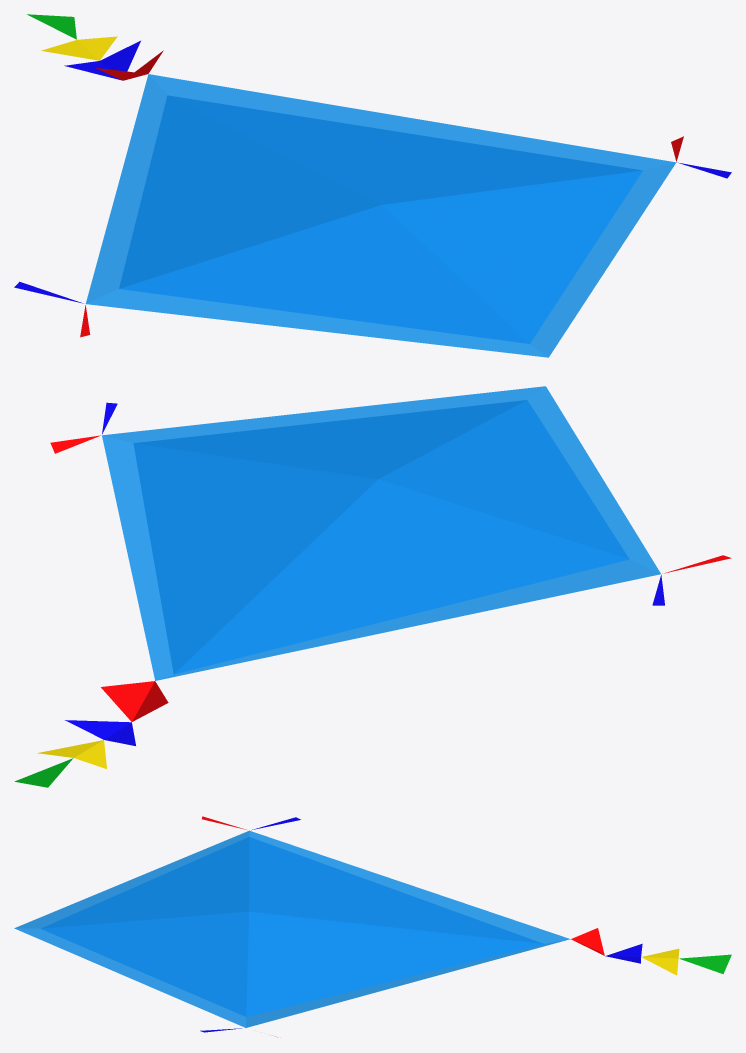
File: kite.glb
3 renders of one model, top to bottom at view 1: azimuth 30°, elevation 25°; view 2: azimuth 150°, elevation 25°; view 3: azimuth 270°, elevation 25°, orthographic. The views are drawn at different scales.
Visible parts, largest first — view 1: Cube; view 2: Cube; view 3: Cube.
Part boxes in pixels (x1,y1,x2,y2): Cube: (14, 14, 731, 357); Cube: (14, 386, 731, 787); Cube: (14, 816, 731, 1037).
Size of the model in its own units: 3.17 by 0.337 by 4.35.
